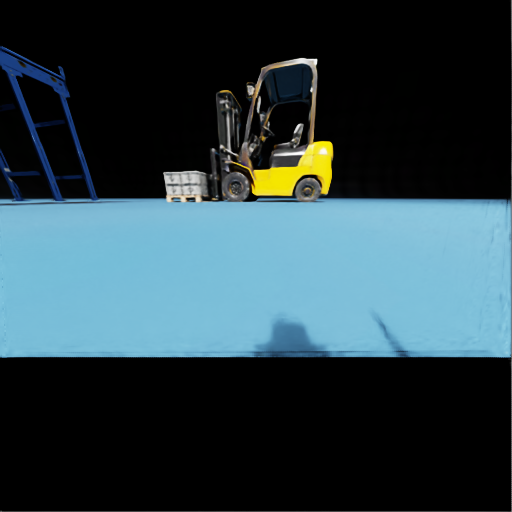transportation_area: (182, 184, 212, 194)
